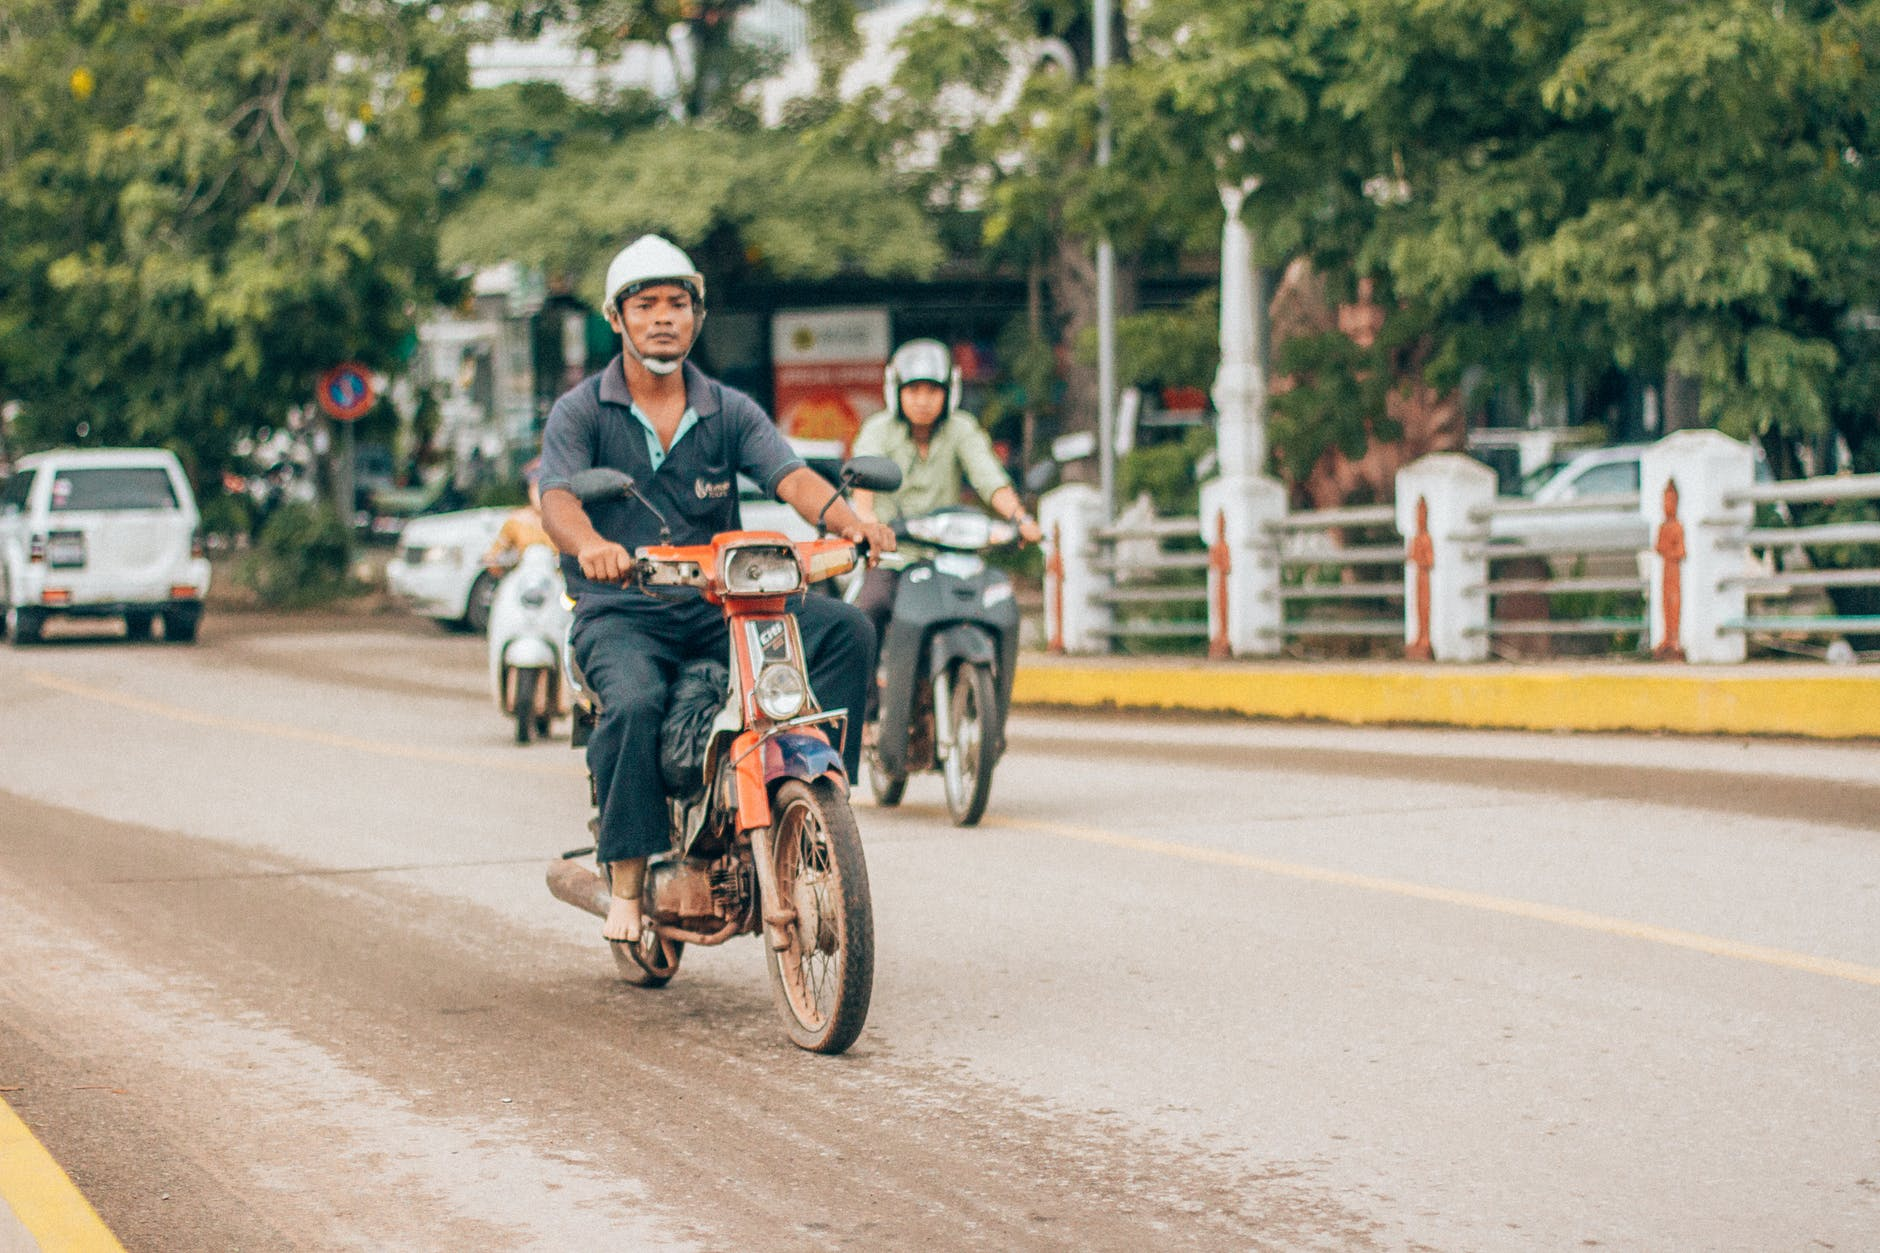helmet: (594, 236, 742, 313)
